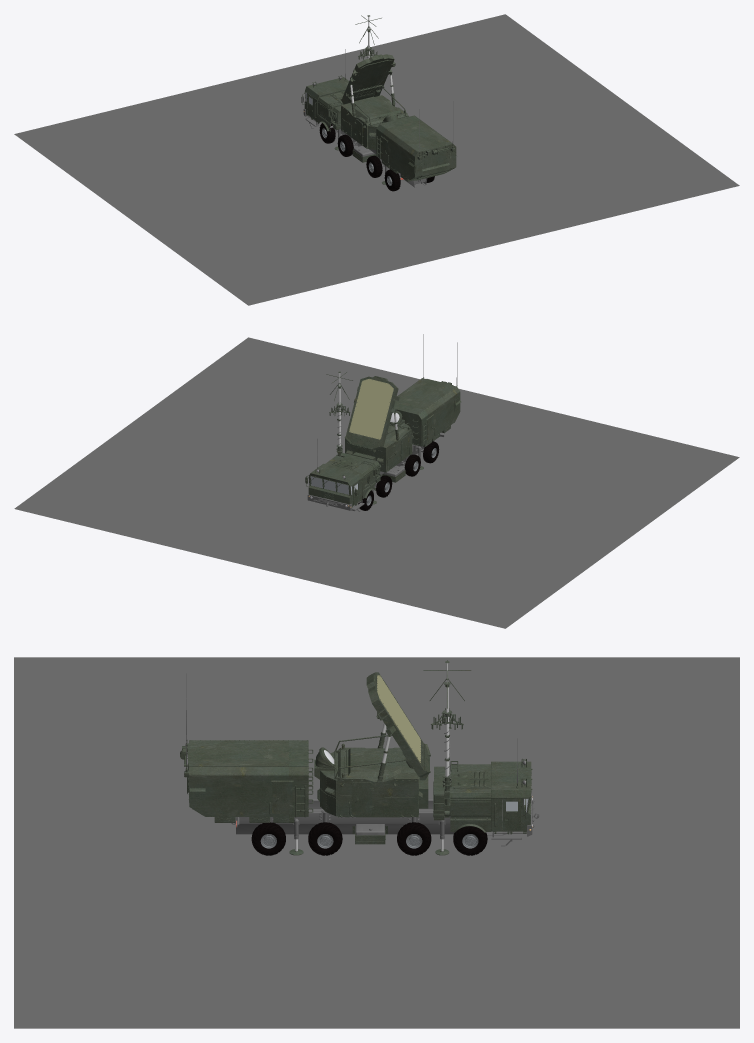
Rendered from grave-stone.glb.
3 views of the same model, one above another, from view 1: azimuth 30°, elevation 25°; view 2: azimuth 150°, elevation 25°; view 3: azimuth 270°, elevation 25° (orthographic). The views are drawn at different scales.
Parts seen in each view (by area): view 1: Object_2, Object_4, Object_3; view 2: Object_2, Object_4, Object_3; view 3: Object_2, Object_4, Object_3.
Part boxes in pixels (x1,y1,x2,y2): Object_2: [14, 14, 739, 305]; Object_4: [301, 15, 456, 184]; Object_3: [301, 16, 453, 191]; Object_2: [14, 337, 739, 628]; Object_4: [305, 371, 461, 507]; Object_3: [307, 334, 457, 511]; Object_2: [14, 657, 739, 1028]; Object_4: [180, 660, 532, 855]; Object_3: [186, 663, 539, 855].
Size of the model in its own units: 1636 by 395 by 1352.
Materials: 3 (3 with a texture image).
